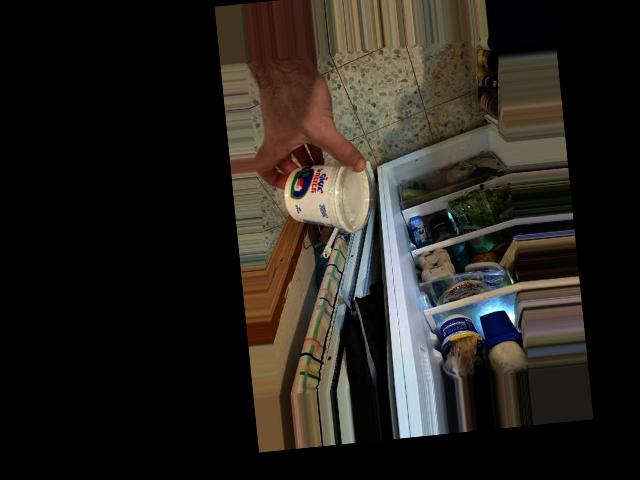cotage: (284, 152, 373, 238)
